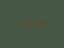five: (18, 20, 24, 28)
four: (32, 19, 38, 27)
nine: (39, 19, 45, 27)
three: (25, 20, 31, 28)
